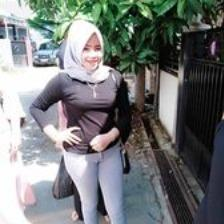Non Syar-i: (58, 19, 114, 86)
